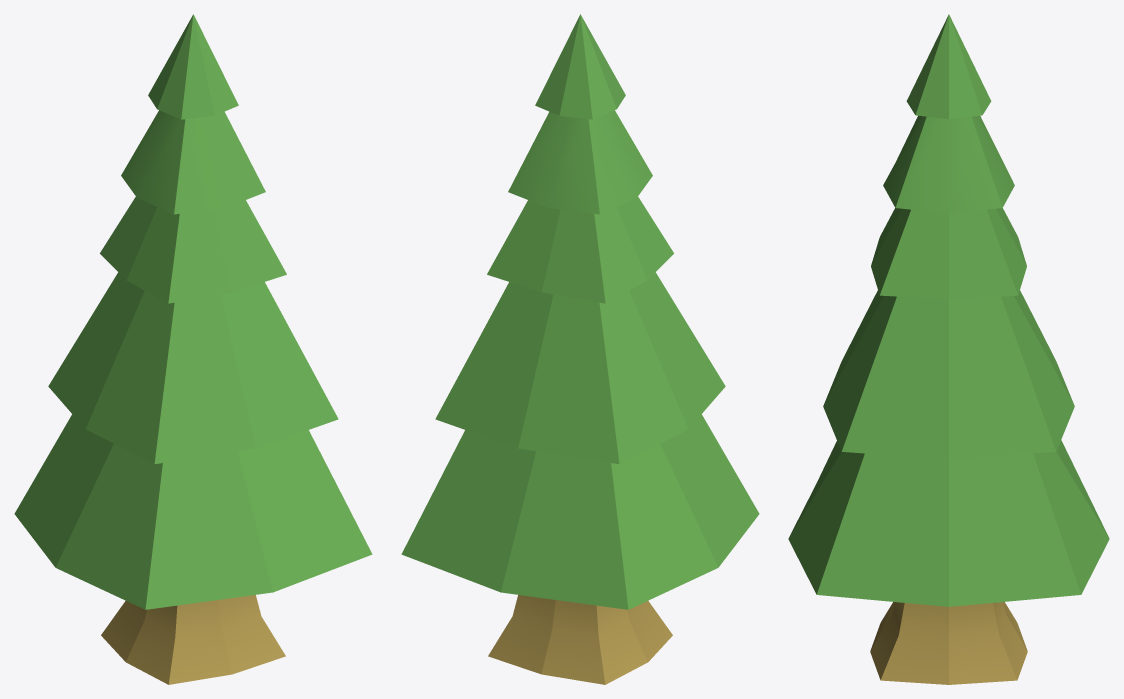
Rendered from tree_5.fbx.
3 renders of one model, left to right at view 1: azimuth 30°, elevation 25°; view 2: azimuth 150°, elevation 25°; view 3: azimuth 270°, elevation 25°, orthographic.
Parts seen in each view (by area): view 1: Trees:Evergreen_Trees:pCube242; view 2: Trees:Evergreen_Trees:pCube242; view 3: Trees:Evergreen_Trees:pCube242.
Boxes of the visible parts, bbox=[...] form: Trees:Evergreen_Trees:pCube242: bbox=[14, 14, 372, 684]; Trees:Evergreen_Trees:pCube242: bbox=[401, 14, 759, 684]; Trees:Evergreen_Trees:pCube242: bbox=[788, 14, 1109, 684].
Size of the model in its own units: 97.47 by 213 by 97.47.
